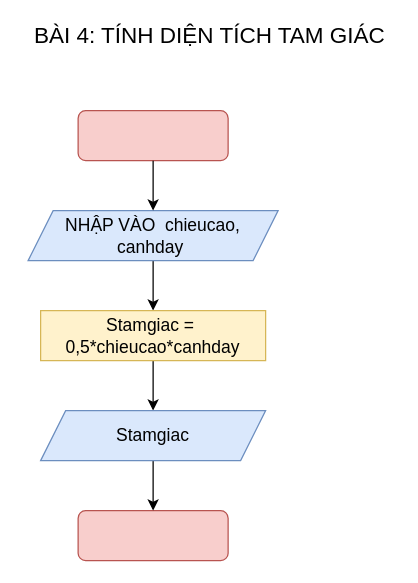
Some shapes in this 418 by 583 pixel diagram are drawn without their labels. Here are the shapes that lost their labels. From the top down, the centre of each, then its label:
At (152,135): "START".
At (152,535): "STOP".
